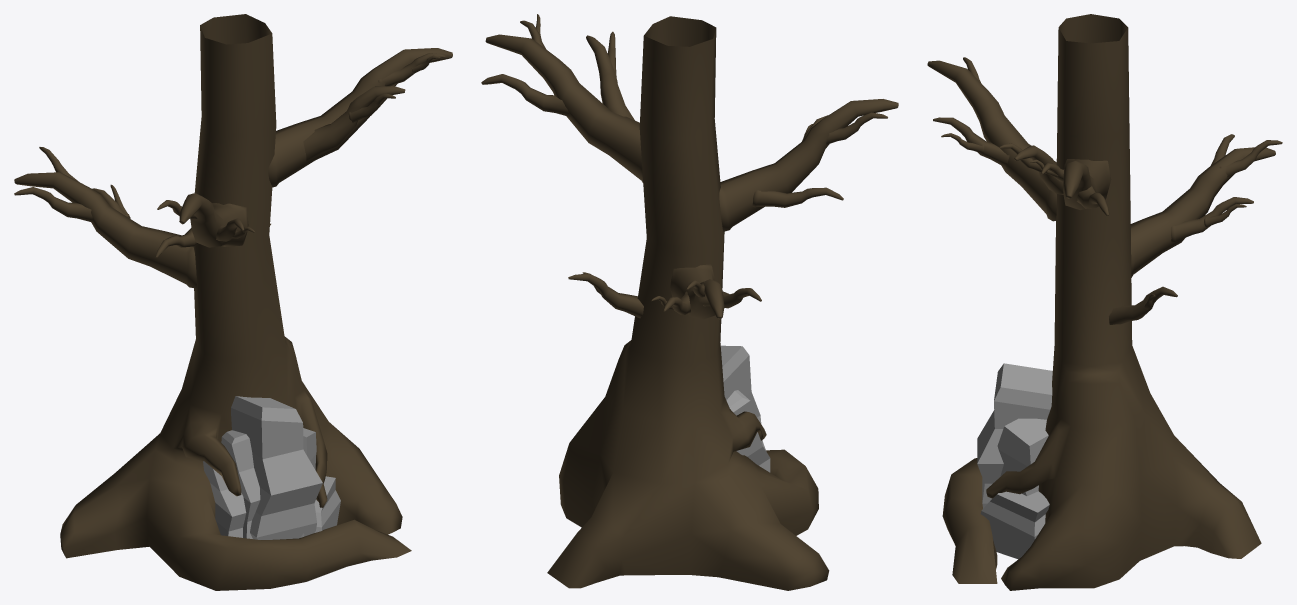
Rendered from Great_Roost_Tree.fbx.
3 renders of one model, left to right at view 1: azimuth 30°, elevation 25°; view 2: azimuth 150°, elevation 25°; view 3: azimuth 270°, elevation 25°, orthographic.
Visible parts, largest first — view 1: Trunk, pCube74, Branch2, Branch, Branch1, pCube75, Branch13, pCube76, pCube78, Branch3, Branch15; view 2: Trunk, Branch, Branch1, Branch2, pCube74, Branch13, Branch14, Branch9, Branch10, Branch12, pCube76; view 3: Trunk, pCube74, Branch2, Branch1, pCube78, pCube77, Branch, Branch4, Branch7, Branch10, Branch13, Branch6 (+1 smaller).
Part boxes in pixels (<box>): Trunk: <box>60,14,411,590</box>; pCube74: <box>231,396,322,539</box>; Branch2: <box>14,172,196,288</box>; Branch: <box>268,48,452,187</box>; Branch1: <box>179,193,248,247</box>; pCube75: <box>221,430,304,538</box>; Branch13: <box>303,86,405,161</box>; pCube76: <box>203,461,246,537</box>; pCube78: <box>314,476,340,532</box>; Branch3: <box>14,187,92,222</box>; Branch15: <box>378,53,445,86</box>; Trunk: <box>547,16,829,590</box>; Branch: <box>485,34,643,182</box>; Branch1: <box>719,99,898,231</box>; Branch2: <box>670,264,724,319</box>; pCube74: <box>720,345,766,451</box>; Branch13: <box>586,35,634,120</box>; Branch14: <box>481,74,570,117</box>; Branch9: <box>752,187,843,207</box>; Branch10: <box>568,273,643,318</box>; Branch12: <box>826,112,887,144</box>; pCube76: <box>736,432,770,472</box>; Trunk: <box>942,14,1261,590</box>; pCube74: <box>977,363,1052,508</box>; Branch2: <box>1130,147,1275,277</box>; Branch1: <box>927,60,1056,221</box>; pCube78: <box>980,491,1049,559</box>; pCube77: <box>997,418,1048,495</box>; Branch: <box>1063,159,1111,210</box>; Branch4: <box>1171,197,1253,242</box>; Branch7: <box>933,117,1009,168</box>; Branch10: <box>1109,286,1177,324</box>; Branch13: <box>1014,145,1063,194</box>; Branch6: <box>1219,140,1282,177</box>.
Size of the model in its own units: 1243 by 1623 by 1044.
